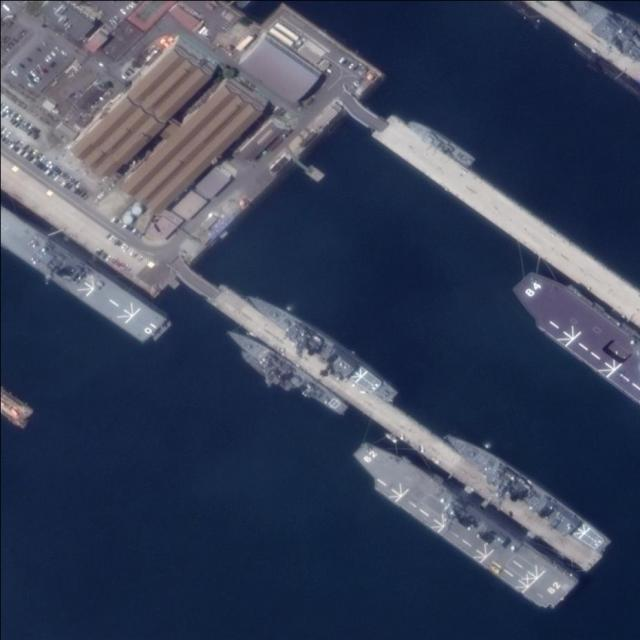Destroyer: (344, 432, 578, 612), (437, 424, 615, 557), (242, 285, 400, 406)
Dock: (175, 261, 598, 577)
Frigate: (220, 321, 352, 421)
Other Warship: (406, 115, 475, 169)
